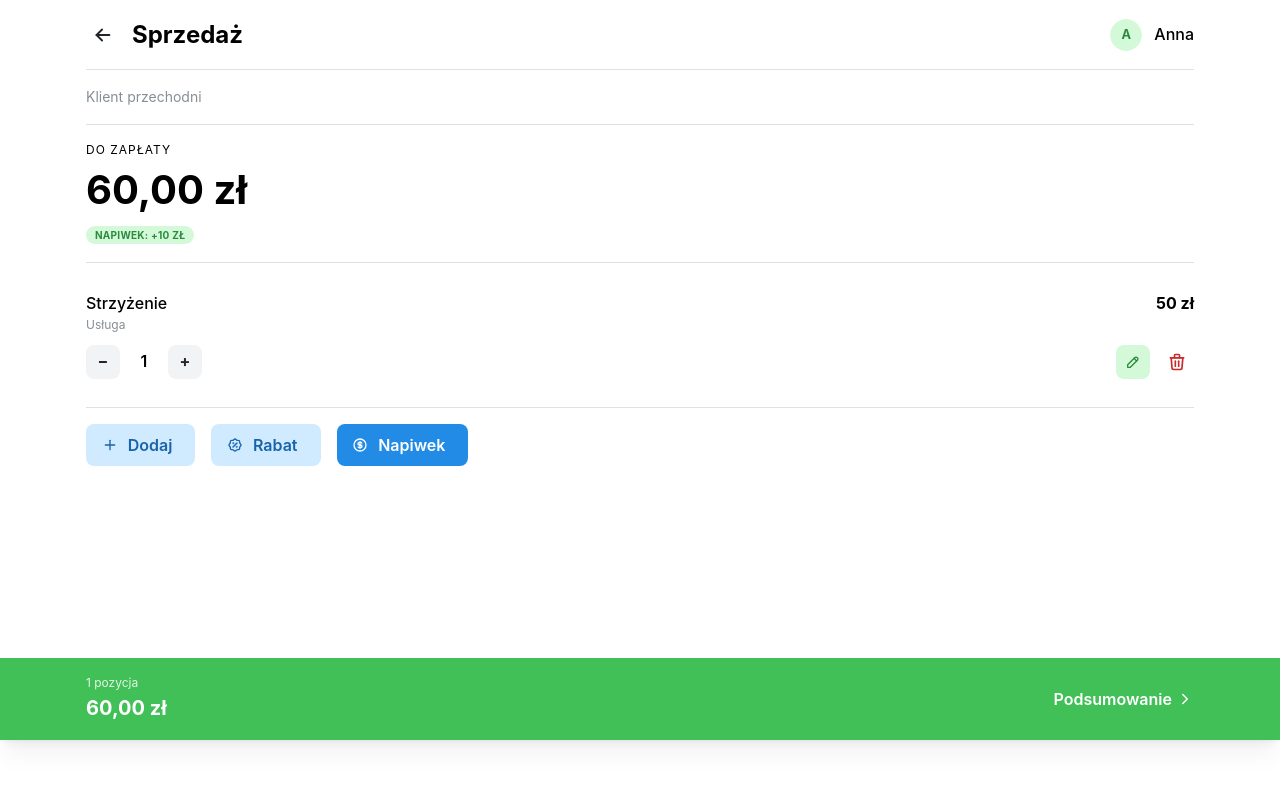
Test: POSPage finalize flow › pokazuje olowek edycji ceny takze dla uslugi i otwiera modal 'Cena uslugi'
Click the button named "zmień cenę usługi strzyżenie": [1133, 362] box x1=1116 y1=345 x2=1150 y2=379
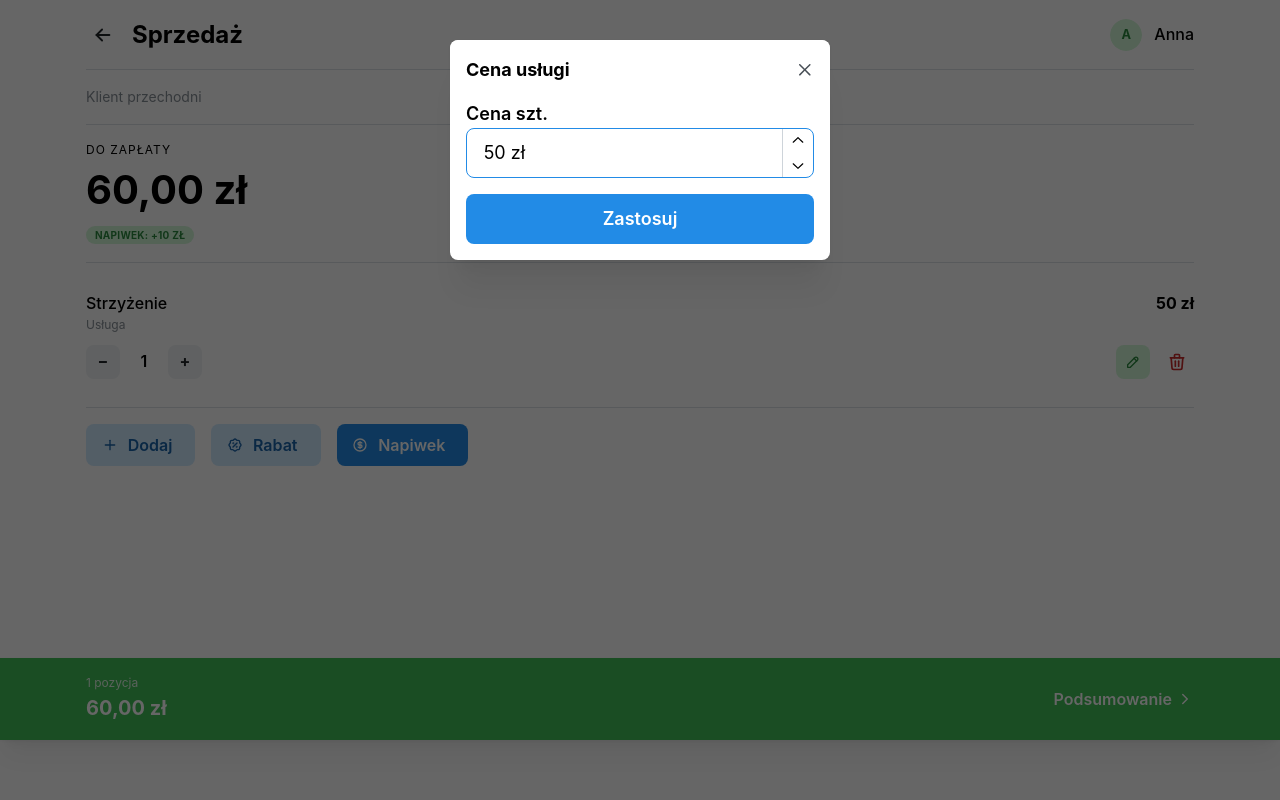
Result: the text "Cena usługi" is shown at x1=466 y1=56 x2=570 y2=84
